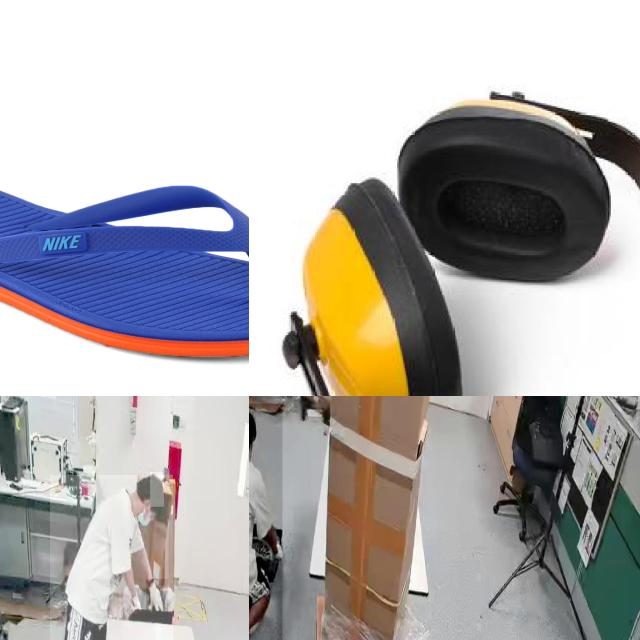Ear-protection: (271, 40, 640, 396)
Sandals: (0, 174, 249, 360)
face_mask: (138, 502, 154, 532)
hand_glove: (146, 579, 168, 618)
head_nohelmet: (150, 472, 164, 507), (249, 406, 256, 428)
person: (50, 475, 173, 640), (249, 403, 283, 640)
